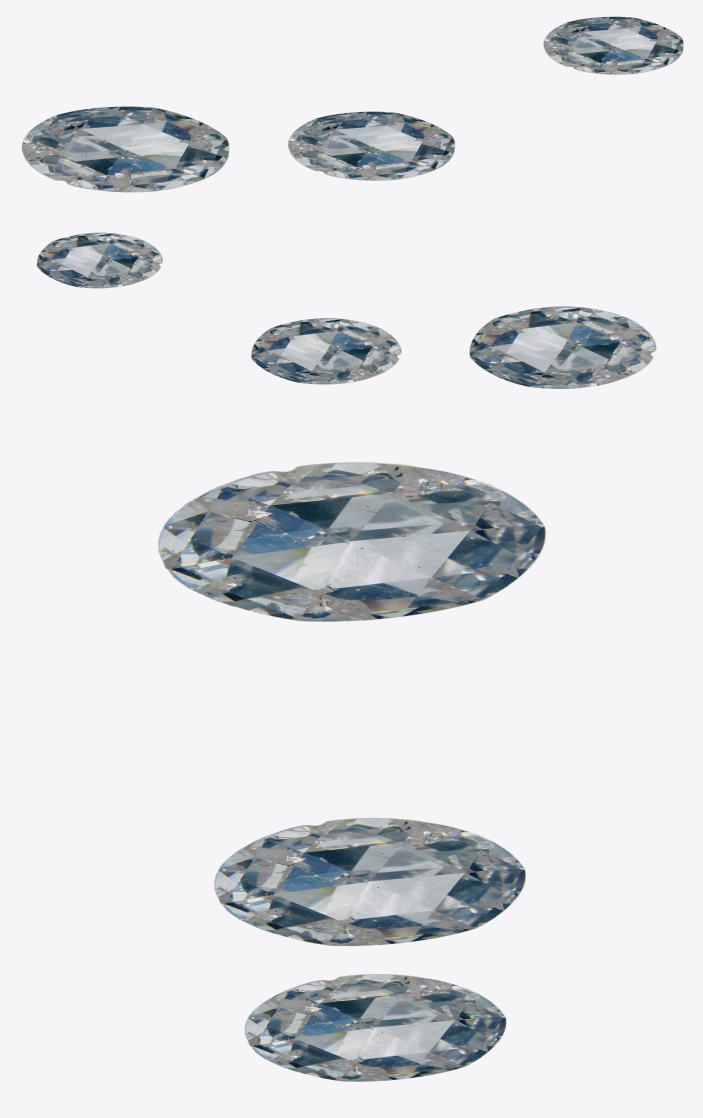
Rendered from diamantes2.glb.
3 views of the same model, one above another, from view 1: azimuth 30°, elevation 25°; view 2: azimuth 150°, elevation 25°; view 3: azimuth 270°, elevation 25° (orthographic). The views are drawn at different scales.
Visible parts, largest first — view 1: diamante.002; view 2: diamante.002; view 3: diamante.002.
Part boxes in pixels (x1,y1,x2,y2): diamante.002: (21,16,683,192); diamante.002: (36,232,656,388); diamante.002: (158,462,546,1081).
Bounding box in the file's own units: 0.1188 × 0.00993 × 0.0419.
1 material, 1 textured.
